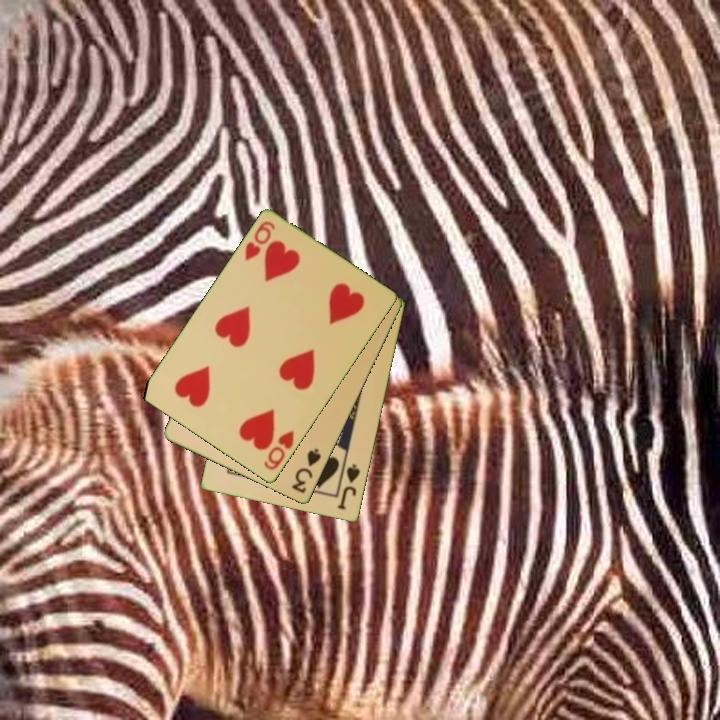3s: (288, 445, 324, 496)
6h: (260, 427, 297, 474), (241, 218, 278, 264)
Js: (334, 461, 363, 513)
